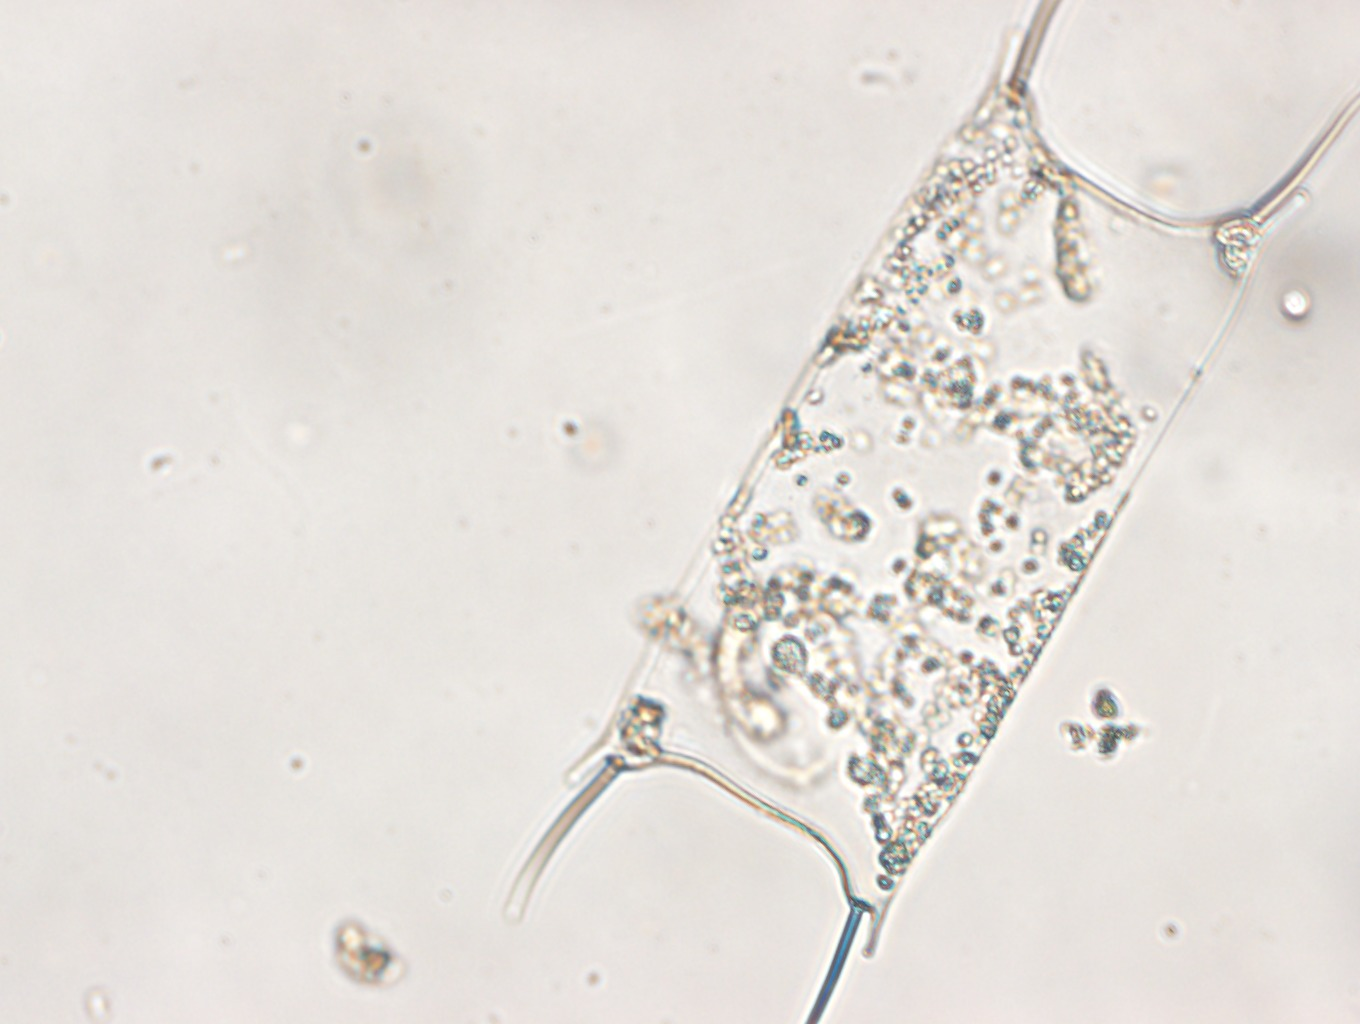biddulphia: (505, 1, 1360, 1024)
